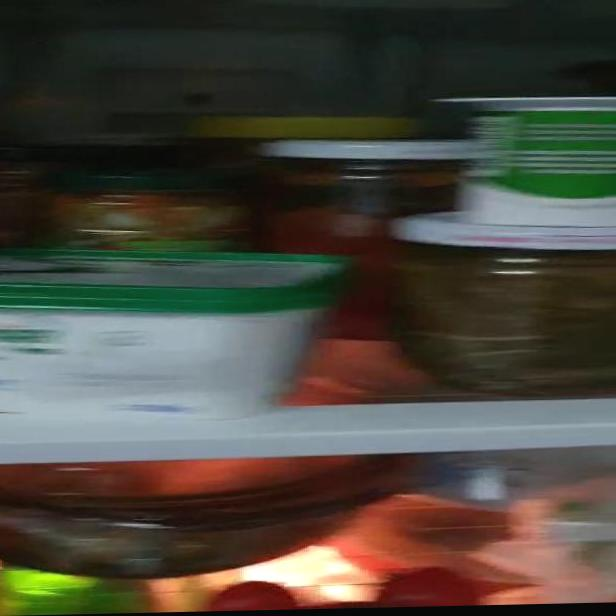cheese: (0, 243, 346, 418)
tomato: (212, 572, 471, 611)
yoghurt: (433, 93, 616, 228)
